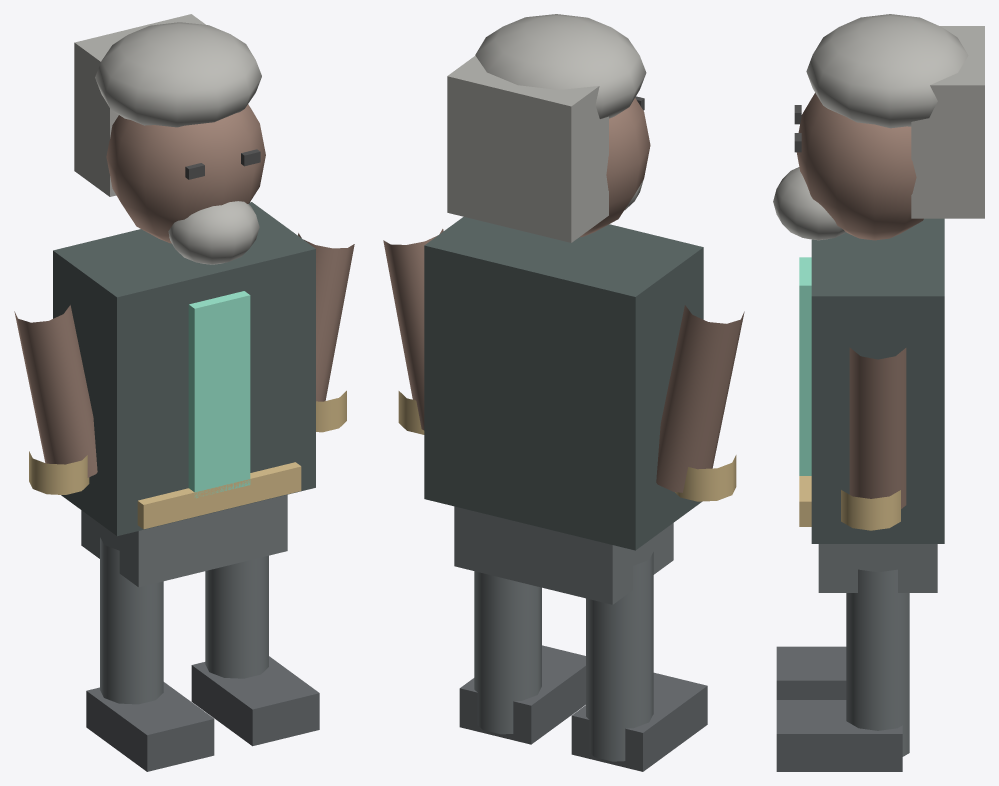
File: oren-caldus.glb
3 renders of one model, left to right at view 1: azimuth 30°, elevation 25°; view 2: azimuth 150°, elevation 25°; view 3: azimuth 270°, elevation 25°, orthographic. The views are drawn at different scales.
Parts seen in each view (by area): view 1: Torso, Head, HairCap, Vest, Pelvis, ArmL, LegL, FootL, FootR, LegR, HairBack, Belt (+4 smaller); view 2: Torso, HairBack, Pelvis, HairCap, LegL, ArmL, LegR, FootL, FootR, ArmR, Head, CuffL (+1 smaller); view 3: Torso, HairCap, Head, HairBack, LegR, ArmR, FootR, Pelvis, FootL, Vest, Beard, CuffR (+1 smaller).
Boxes of the visible parts, x1,y1,x2,y2 form: Torso: (53, 202, 315, 536); Head: (106, 104, 265, 243); HairCap: (95, 22, 261, 127); Vest: (188, 291, 250, 498); Pelvis: (81, 494, 287, 587); ArmL: (14, 305, 97, 477); LegL: (100, 537, 163, 704); FootL: (86, 682, 214, 771); FootR: (191, 656, 319, 746); LegR: (205, 555, 268, 678); HairBack: (74, 14, 205, 196); Belt: (137, 462, 301, 529); Torso: (424, 217, 703, 550); HairBack: (447, 55, 608, 242); Pelvis: (454, 506, 673, 604); HairCap: (475, 14, 646, 118); LegL: (586, 552, 653, 761); ArmL: (656, 305, 744, 492); LegR: (474, 571, 541, 734); FootL: (571, 672, 707, 771); FootR: (459, 645, 585, 744); ArmR: (383, 229, 443, 430); Head: (579, 98, 650, 237); CuffL: (675, 455, 736, 501); Torso: (811, 218, 944, 543); HairCap: (806, 14, 968, 128); Head: (796, 93, 923, 240); HairBack: (911, 26, 984, 218); LegR: (846, 569, 909, 756); ArmR: (849, 347, 906, 508); FootR: (776, 700, 902, 771); Pelvis: (818, 544, 937, 592); FootL: (776, 646, 846, 699); Vest: (799, 257, 811, 475); Beard: (773, 167, 846, 240); CuffR: (841, 490, 900, 530).
Size of the model in its own units: 1.14 by 2.21 by 0.605.
